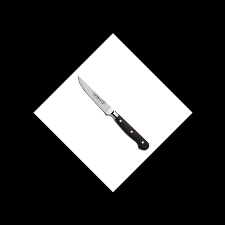k1: (77, 74, 120, 119)
